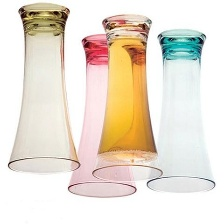glass: (3, 0, 83, 178), (63, 26, 141, 207), (143, 24, 219, 201), (88, 10, 160, 185)
